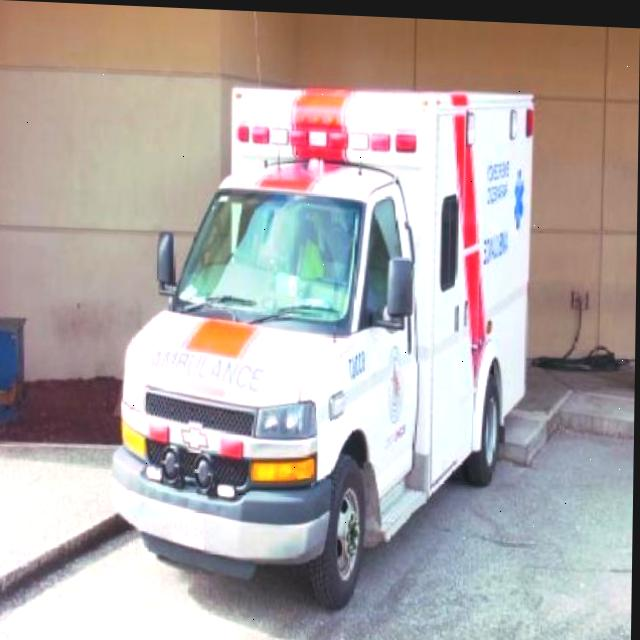emergency: (110, 71, 536, 614)
